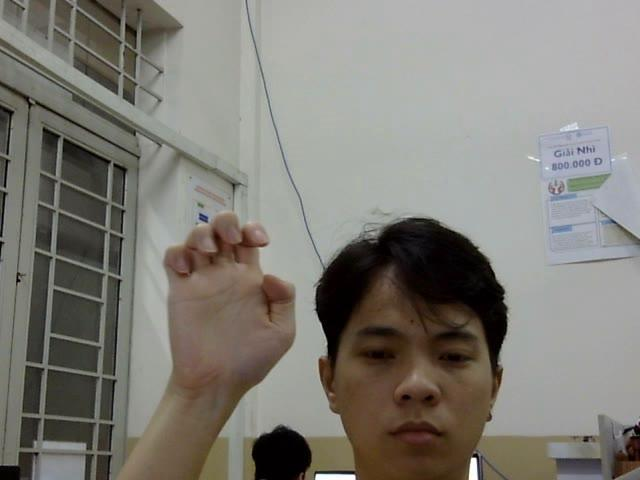E: (160, 208, 298, 385)
